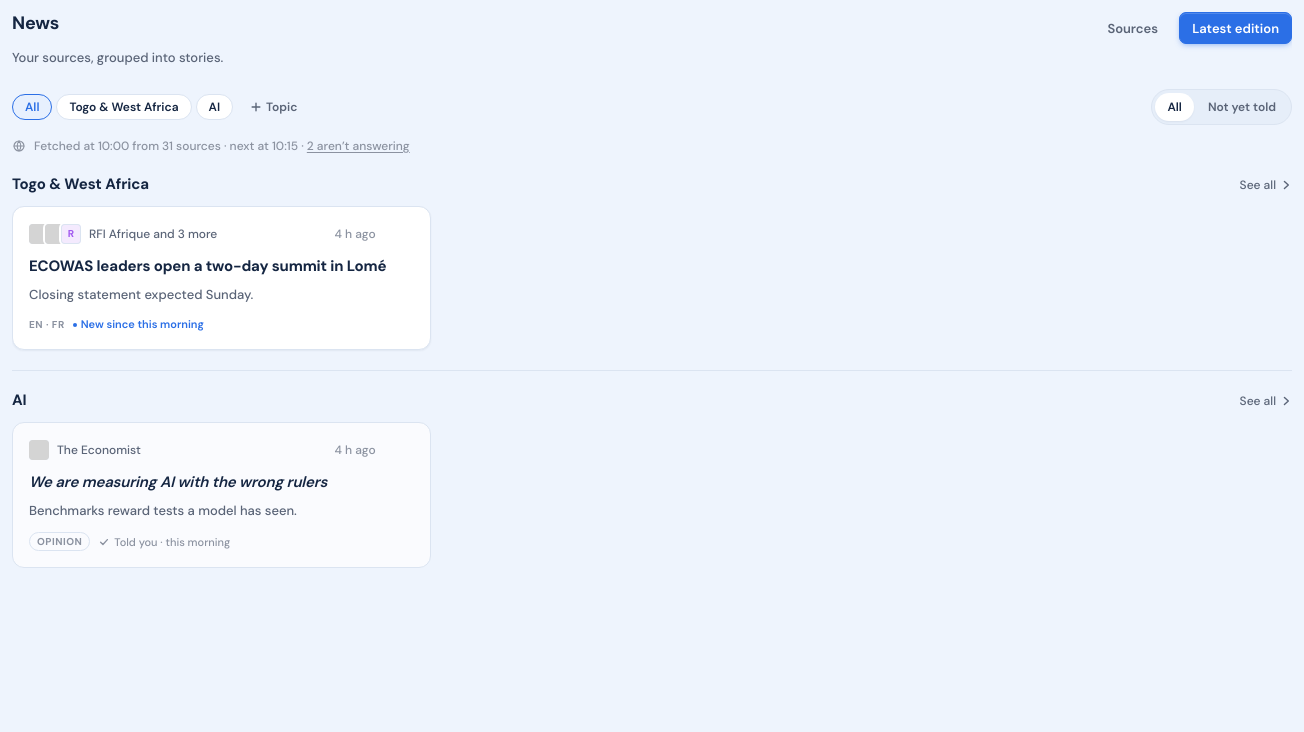
Test: the News page grammar (host API 1.27) › See all picks the group, and its head goes with the other groups
Check: the heading "ECOWAS leaders open a two-day summit in Lomé" is shown, box [29,257,414,277]
Click the 2nd link "See all" at (1266, 401), box [1240,392,1292,410]
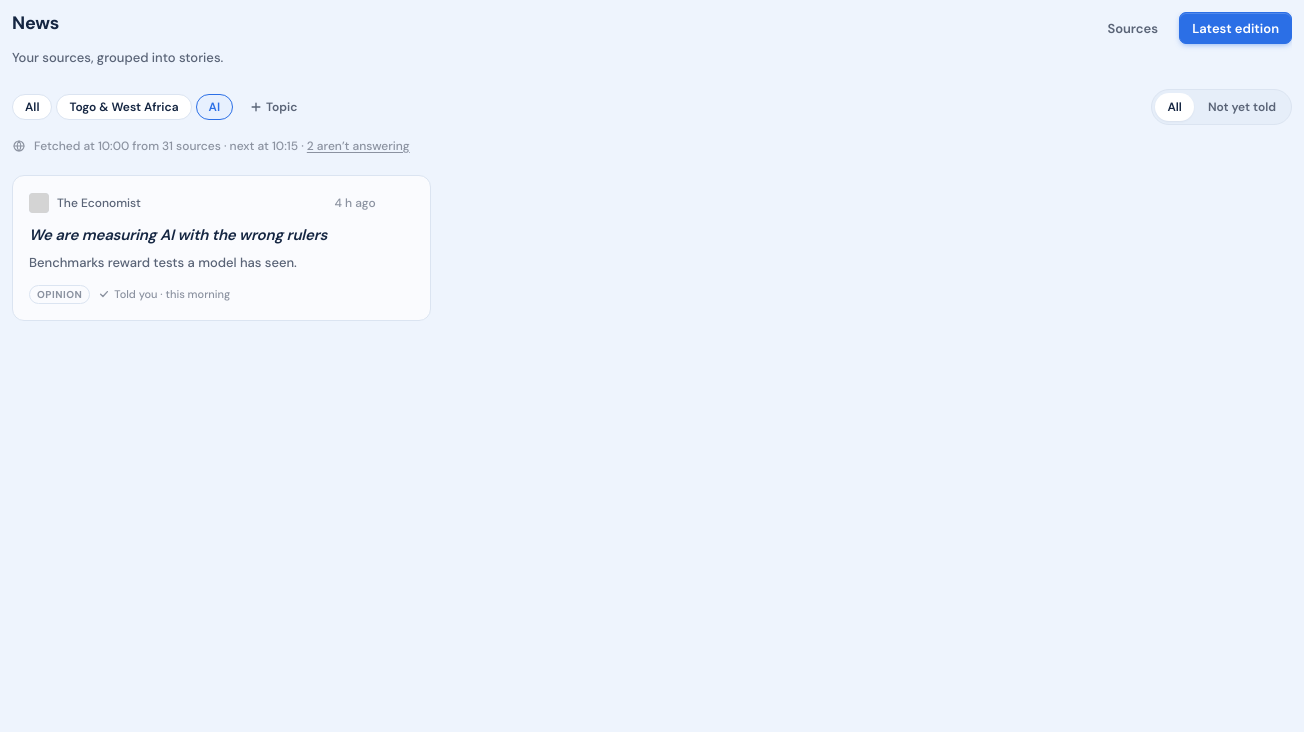
Check: the heading "We are measuring AI with the wrong rulers" is shown, box [29,225,327,245]
Check: the heading "ECOWAS leaders open a two-day summit in Lomé" is gone
